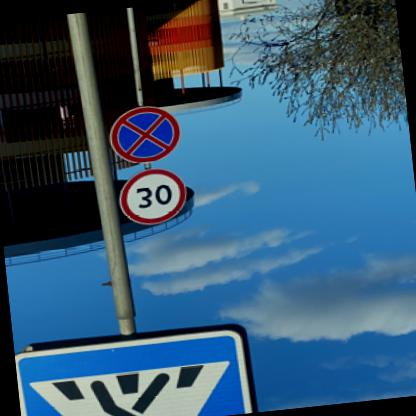speedlimit: (113, 166, 186, 228)
